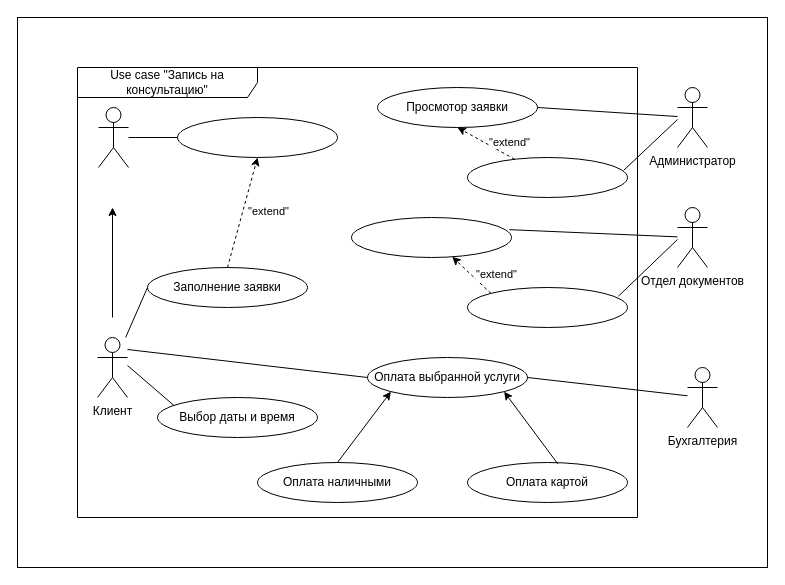
This 785x585 diagram has some shape labels left out. The centre of each missing label's shape, as x and y in pixels:
Верификация документов: the point at 547,307
Изменение статуса завки: the point at 547,177
Посетитель веб-сайта: the point at 113,137
Просмотор страховых услуг: the point at 257,137
Просмотр документов: the point at 431,237
